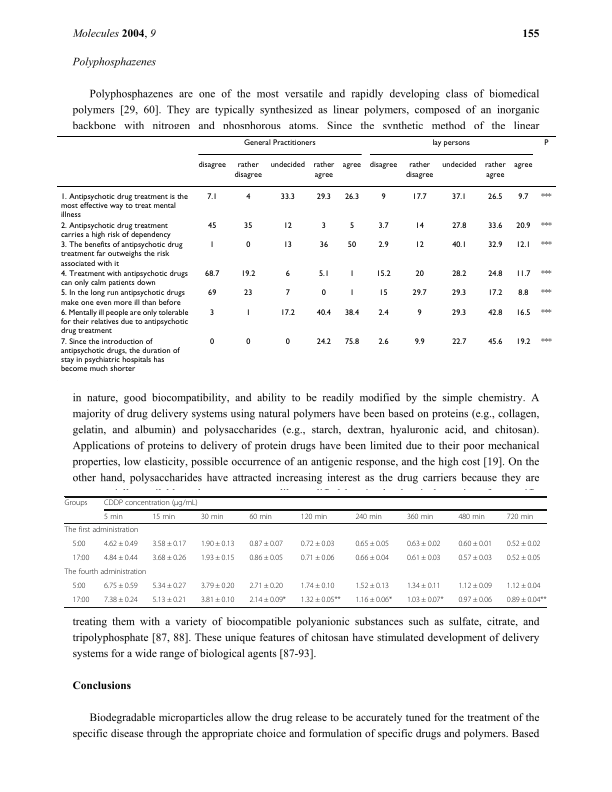borderless: (55, 134, 557, 382), (63, 495, 547, 607)
cell: (59, 337, 180, 374), (59, 308, 189, 336), (59, 192, 188, 220), (59, 240, 183, 269), (59, 288, 185, 308), (59, 269, 188, 288), (59, 221, 171, 240), (103, 499, 199, 508), (64, 567, 147, 577), (64, 525, 139, 535), (242, 138, 316, 148), (404, 161, 434, 180), (233, 161, 262, 180), (312, 161, 335, 180), (483, 161, 506, 180), (300, 595, 341, 605), (506, 595, 547, 605), (431, 138, 470, 148), (248, 595, 287, 605), (354, 595, 393, 605), (406, 595, 444, 605), (103, 539, 139, 549), (151, 539, 187, 549), (248, 539, 284, 549), (354, 539, 390, 549), (457, 539, 493, 549), (103, 553, 139, 563), (151, 553, 187, 563), (248, 553, 284, 563), (354, 553, 390, 563), (457, 553, 493, 563), (103, 581, 139, 591), (151, 581, 187, 591), (248, 581, 284, 591), (354, 581, 390, 591), (457, 581, 493, 591), (103, 595, 139, 605), (151, 595, 187, 605), (457, 595, 493, 605), (200, 539, 235, 549), (300, 539, 335, 549), (406, 539, 441, 549), (506, 539, 541, 549), (200, 553, 235, 563), (300, 553, 335, 563), (406, 553, 441, 563), (506, 553, 541, 563), (200, 581, 235, 591), (300, 581, 335, 591), (406, 581, 441, 591), (506, 581, 541, 591), (200, 595, 235, 605), (269, 161, 305, 170), (441, 161, 477, 170), (368, 161, 398, 170), (197, 161, 226, 170), (354, 512, 383, 521), (457, 512, 486, 521), (300, 512, 328, 521), (406, 512, 434, 521), (506, 512, 534, 521), (151, 512, 176, 521), (248, 512, 273, 521), (64, 499, 88, 508), (200, 512, 224, 521), (71, 553, 90, 563), (71, 595, 90, 605), (341, 161, 362, 170), (103, 512, 124, 521), (513, 161, 533, 170), (343, 308, 360, 318), (343, 337, 360, 347), (279, 192, 295, 202), (315, 192, 331, 202), (343, 192, 359, 202), (411, 192, 427, 202), (451, 192, 467, 202), (487, 192, 503, 202), (451, 221, 467, 231), (487, 221, 503, 231), (515, 221, 531, 231), (451, 240, 467, 250), (487, 240, 503, 250), (515, 240, 531, 250), (204, 269, 220, 279), (240, 269, 256, 279), (375, 269, 391, 279), (451, 269, 467, 279), (487, 269, 503, 279), (515, 269, 531, 279), (411, 288, 427, 298), (451, 288, 467, 298), (487, 288, 503, 298), (279, 308, 295, 318), (315, 308, 331, 318), (451, 308, 467, 318), (487, 308, 503, 318), (515, 308, 531, 318), (315, 337, 331, 347), (451, 337, 467, 347), (487, 337, 503, 347), (515, 337, 531, 347), (71, 539, 86, 549), (71, 581, 86, 591), (206, 192, 218, 202), (517, 192, 529, 202), (540, 192, 552, 202), (377, 221, 389, 231), (540, 221, 552, 231), (377, 240, 389, 250), (540, 240, 552, 250), (317, 269, 329, 279), (540, 269, 552, 279), (517, 288, 529, 298), (540, 288, 552, 298), (377, 308, 389, 318), (540, 308, 552, 318), (377, 337, 389, 347), (413, 337, 425, 347), (540, 337, 552, 347), (318, 240, 329, 250), (346, 240, 357, 250), (207, 221, 217, 231), (243, 221, 253, 231), (282, 221, 292, 231), (414, 221, 424, 231), (282, 240, 292, 250), (414, 240, 424, 250), (414, 269, 424, 279), (207, 288, 217, 298), (243, 288, 253, 298), (378, 288, 388, 298), (348, 221, 355, 231), (348, 269, 355, 279), (348, 288, 355, 298), (543, 138, 549, 148), (245, 192, 251, 202), (380, 192, 386, 202), (320, 221, 326, 231), (209, 240, 215, 250), (245, 240, 251, 250), (284, 269, 290, 279), (284, 288, 290, 298), (320, 288, 326, 298), (209, 308, 215, 318), (245, 308, 251, 318), (416, 308, 422, 318), (209, 337, 215, 347), (245, 337, 251, 347), (284, 337, 290, 347)
